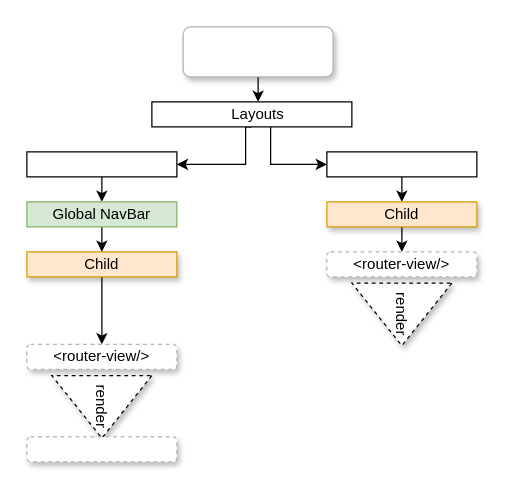
The diagram is 506 pixels wide and 493 high, and some of its shapes have lost their labels. Each missing label, with the centre of its shape:
"APP" belongs at point 259,53.
"Basic" belongs at point 401,164.
"Default" belongs at point 101,164.
"Home" belongs at point 102,451.
